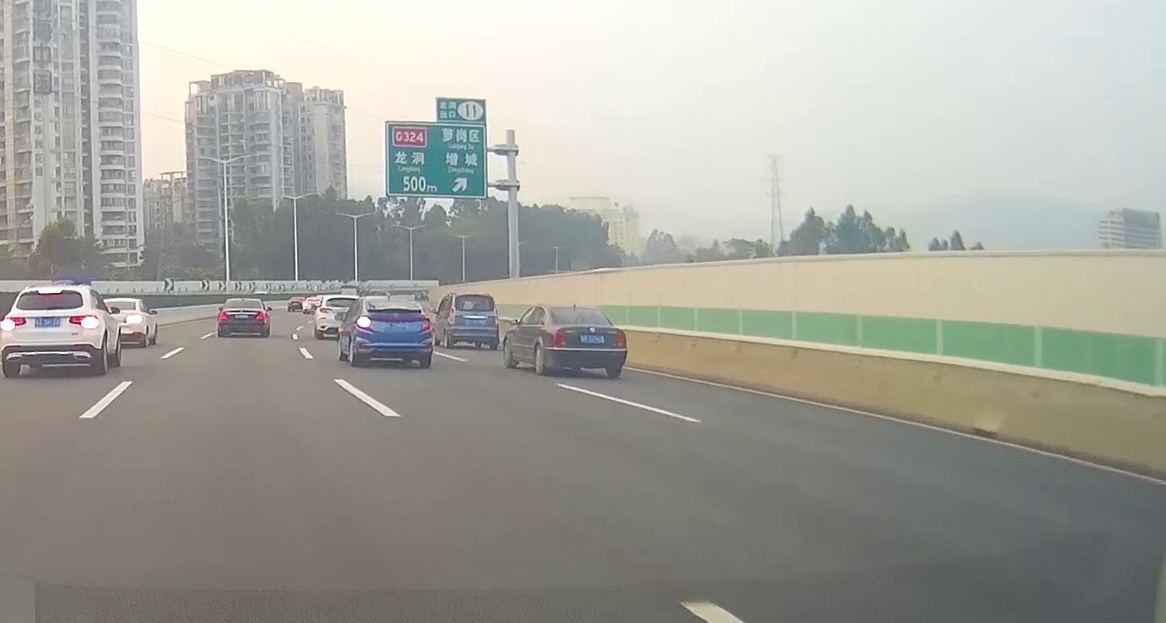L_light: (0, 316, 26, 330), (552, 327, 567, 347), (356, 316, 372, 328), (219, 310, 230, 321), (448, 308, 455, 325)
R_light: (69, 315, 99, 327), (617, 328, 627, 347), (254, 310, 266, 320), (421, 318, 430, 330), (494, 308, 498, 325)
T_light: (38, 288, 61, 294), (573, 308, 585, 311), (385, 299, 398, 301), (470, 295, 479, 297), (239, 300, 247, 302)
day-brake: (0, 284, 102, 377)
day-left: (353, 296, 433, 366)
day-no: (543, 305, 628, 375), (445, 291, 499, 348), (217, 298, 266, 336)
